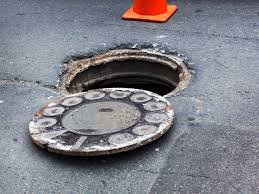Manhole-Open: (57, 38, 191, 104)
